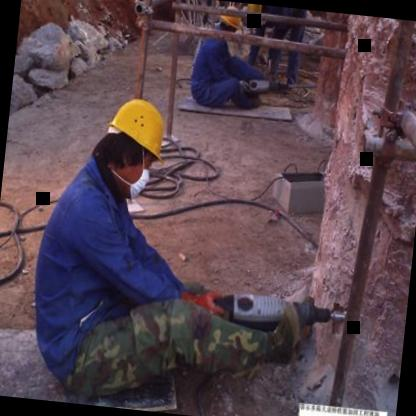helmet: (92, 86, 179, 192), (212, 5, 246, 43)
